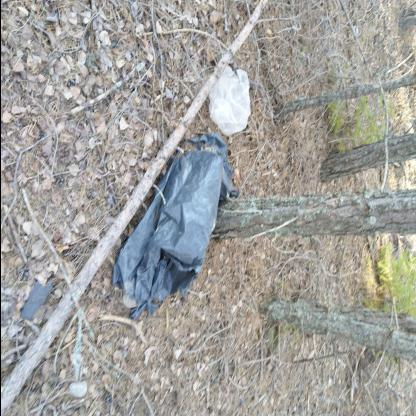plastik: (112, 132, 236, 320), (208, 66, 250, 136)
